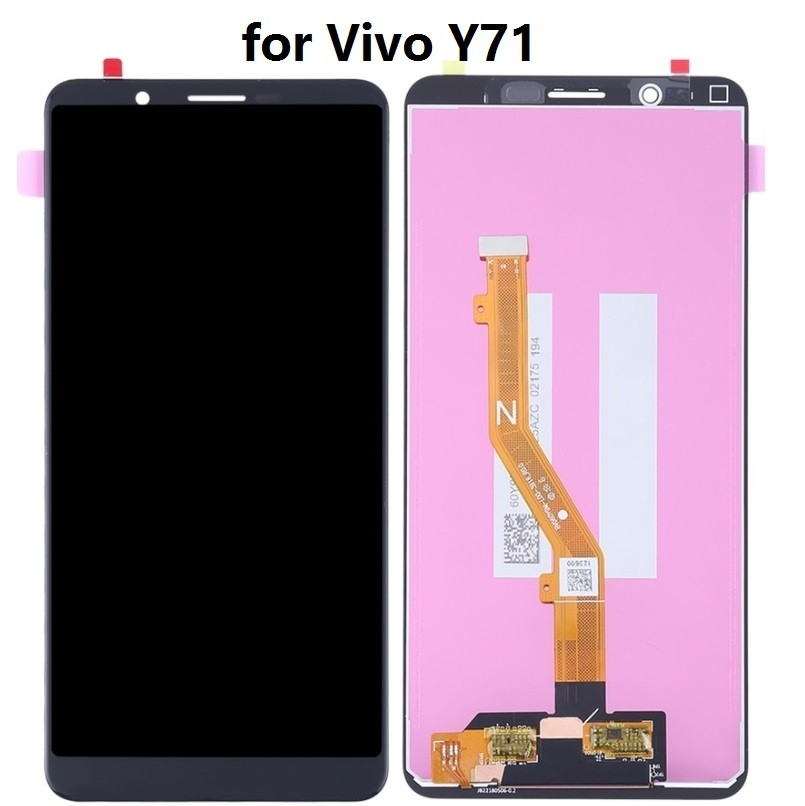Phone: (38, 74, 392, 805)
